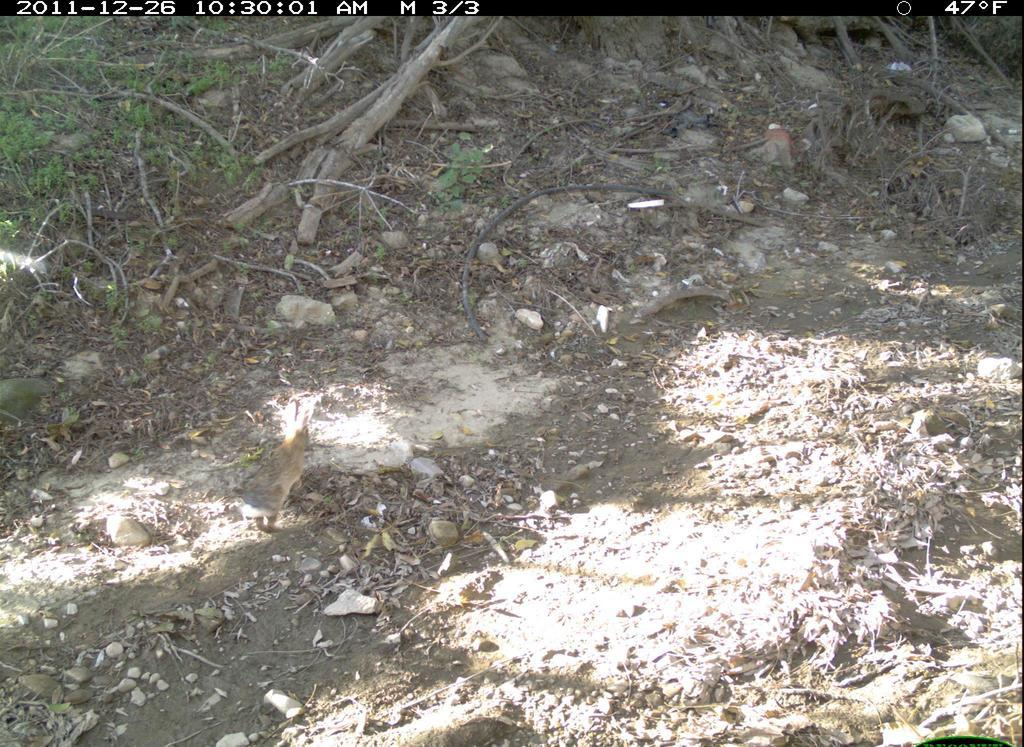rabbit: (229, 393, 341, 549)
